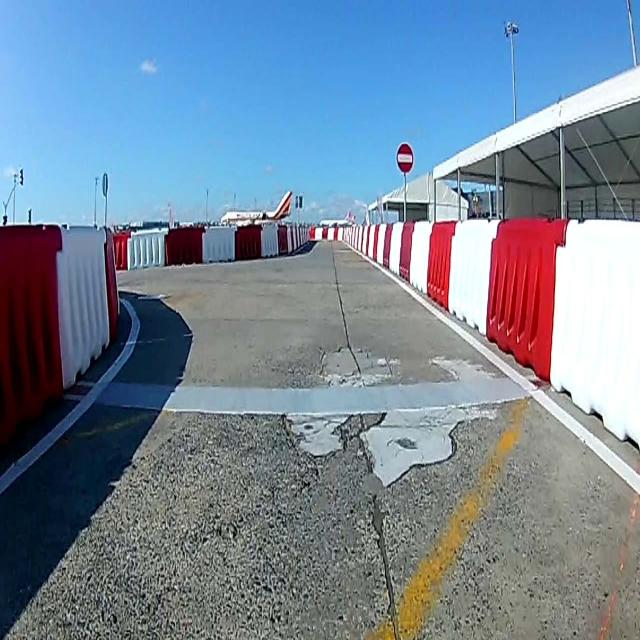girisyok: (396, 142, 414, 174)
